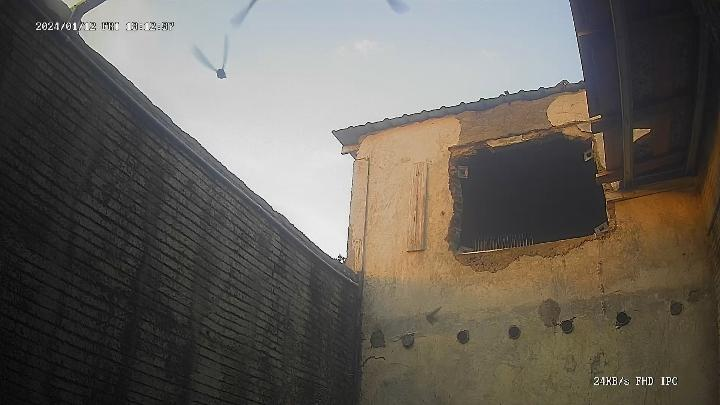walet: (192, 36, 236, 82)
